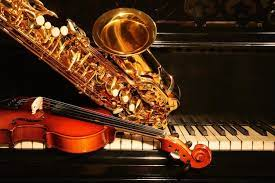Piano: (11, 96, 272, 183)
Saxophone: (1, 1, 206, 136)
Violin: (1, 92, 221, 174)
